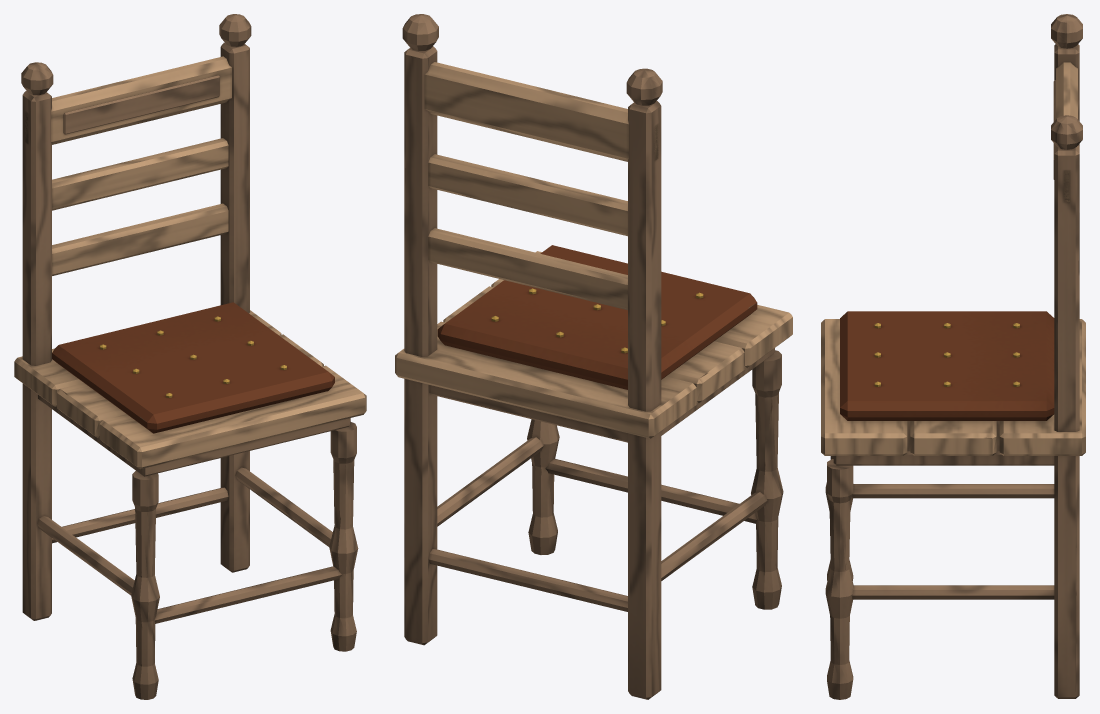
File: chair_tex.glb
The picture shows the model from 3 angles, left to right: view 1: azimuth 30°, elevation 25°; view 2: azimuth 150°, elevation 25°; view 3: azimuth 270°, elevation 25°; orthographic projection. The views are drawn at different scales.
Parts seen in each view (by area): view 1: chair; view 2: chair; view 3: chair.
Boxes of the visible parts, x1=… form: chair: x1=14, y1=14, x2=366, y2=699; chair: x1=395, y1=14, x2=792, y2=699; chair: x1=821, y1=14, x2=1085, y2=699.
Bounding box in the file's own units: 0.44 × 1.01 × 0.42.
4 materials, 4 textured.
